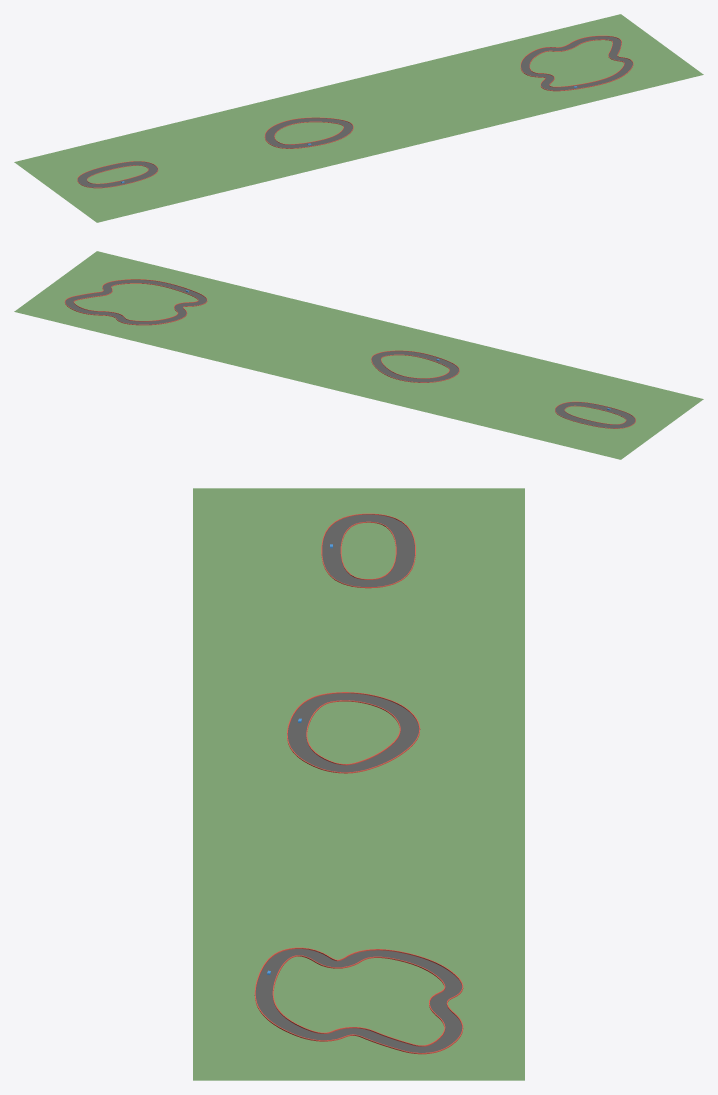
File: path.fbx
3 views of the same model, one above another, from view 1: azimuth 30°, elevation 25°; view 2: azimuth 150°, elevation 25°; view 3: azimuth 270°, elevation 25° (orthographic). The views are drawn at different scales.
Parts seen in each view (by area): view 1: Ground_All, Complex_Road, Medium_Road, Simple_Road, Complex_EdgeRight; view 2: Ground_All, Complex_Road, Medium_Road, Simple_Road, Complex_EdgeRight, Complex_EdgeLeft; view 3: Ground_All, Complex_Road, Medium_Road, Simple_Road, Complex_EdgeRight, Complex_EdgeLeft.
Boxes of the visible parts, x1=… form: Ground_All: x1=14, y1=14, x2=703, y2=222; Complex_Road: x1=521, y1=36, x2=632, y2=90; Medium_Road: x1=265, y1=118, x2=352, y2=148; Simple_Road: x1=77, y1=161, x2=157, y2=187; Complex_EdgeRight: x1=520, y1=35, x2=633, y2=91; Ground_All: x1=14, y1=251, x2=703, y2=459; Complex_Road: x1=65, y1=280, x2=206, y2=324; Medium_Road: x1=371, y1=351, x2=459, y2=382; Simple_Road: x1=555, y1=402, x2=635, y2=428; Complex_EdgeRight: x1=64, y1=279, x2=207, y2=325; Complex_EdgeLeft: x1=73, y1=283, x2=198, y2=321; Ground_All: x1=193, y1=488, x2=524, y2=1080; Complex_Road: x1=255, y1=949, x2=462, y2=1052; Medium_Road: x1=287, y1=693, x2=419, y2=772; Simple_Road: x1=322, y1=514, x2=414, y2=586; Complex_EdgeRight: x1=254, y1=947, x2=463, y2=1054; Complex_EdgeLeft: x1=272, y1=955, x2=445, y2=1046.
Bounding box in the file's own units: 45299 × 65 × 10735.
